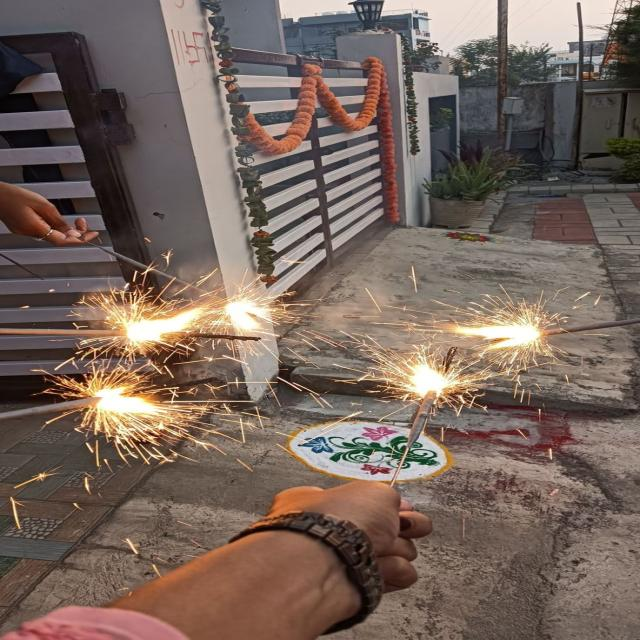fire: (123, 306, 203, 342), (454, 324, 542, 348), (94, 386, 164, 414), (405, 365, 460, 397), (224, 298, 276, 330)
